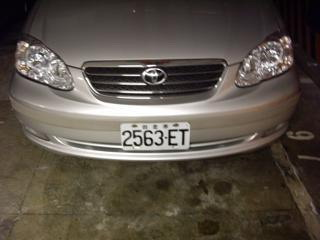plate: (118, 120, 192, 152)
